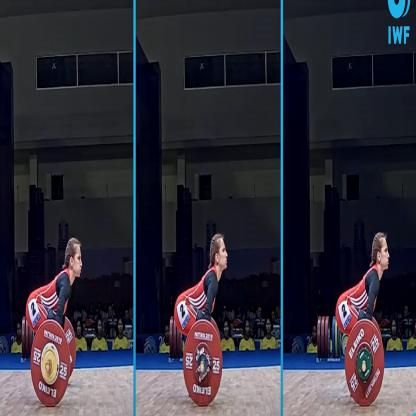Barbell: (341, 310, 387, 412), (27, 313, 73, 411), (181, 318, 227, 411)
